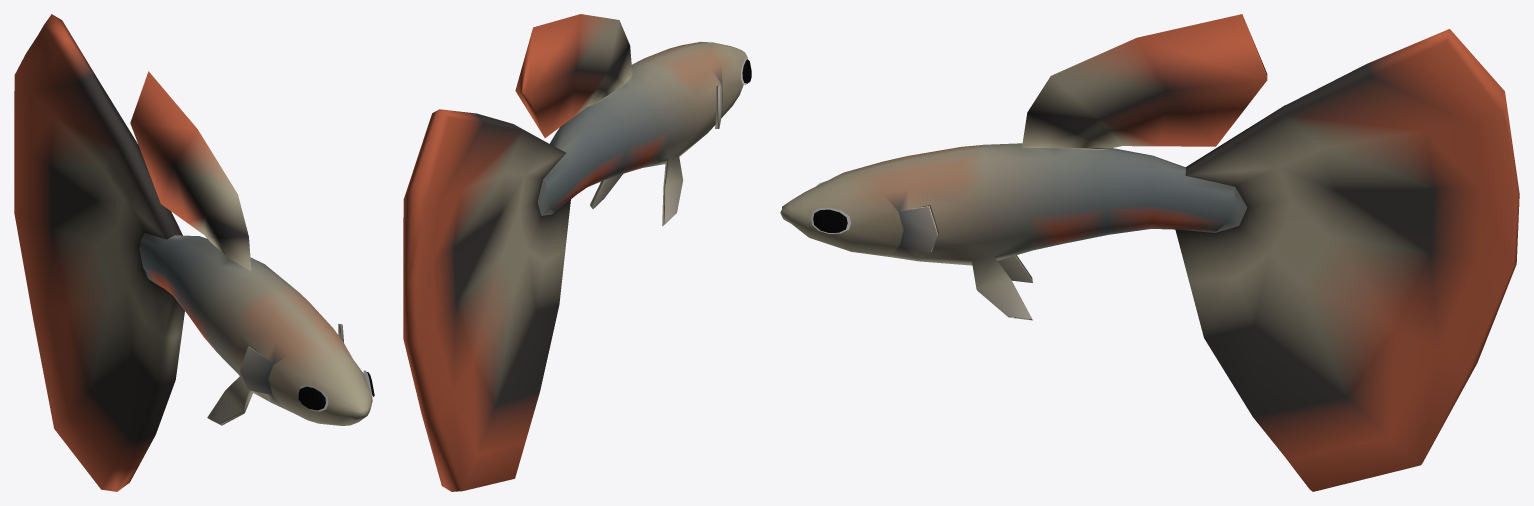
The model's file is underwater-fish-betta-fish_v2.fbx.
3 views of the same model, side by side, from view 1: azimuth 30°, elevation 25°; view 2: azimuth 150°, elevation 25°; view 3: azimuth 270°, elevation 25° (orthographic). The views are drawn at different scales.
Visible parts, largest first — view 1: Betta Fish_v2; view 2: Betta Fish_v2; view 3: Betta Fish_v2.
Part boxes in pixels (bbox=[...]): Betta Fish_v2: bbox=[14, 14, 374, 491]; Betta Fish_v2: bbox=[403, 14, 751, 491]; Betta Fish_v2: bbox=[780, 14, 1519, 491].
Size of the model in its own units: 0.0121 by 0.0497 by 0.07.
